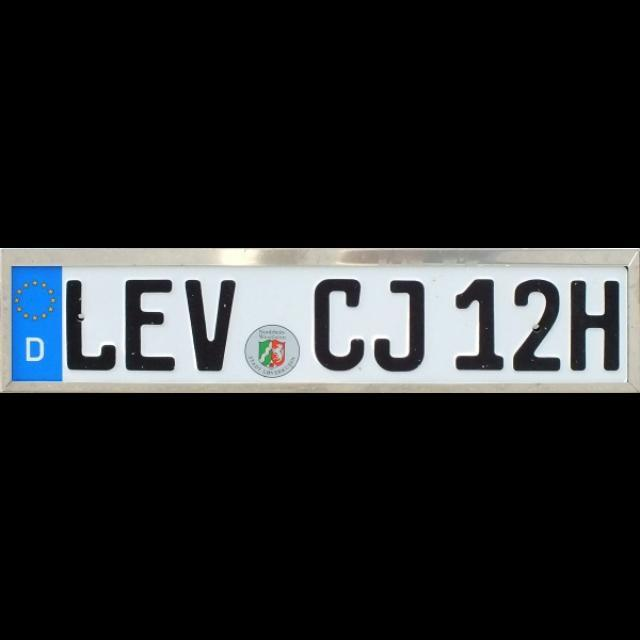license-plates: (10, 266, 629, 386)
